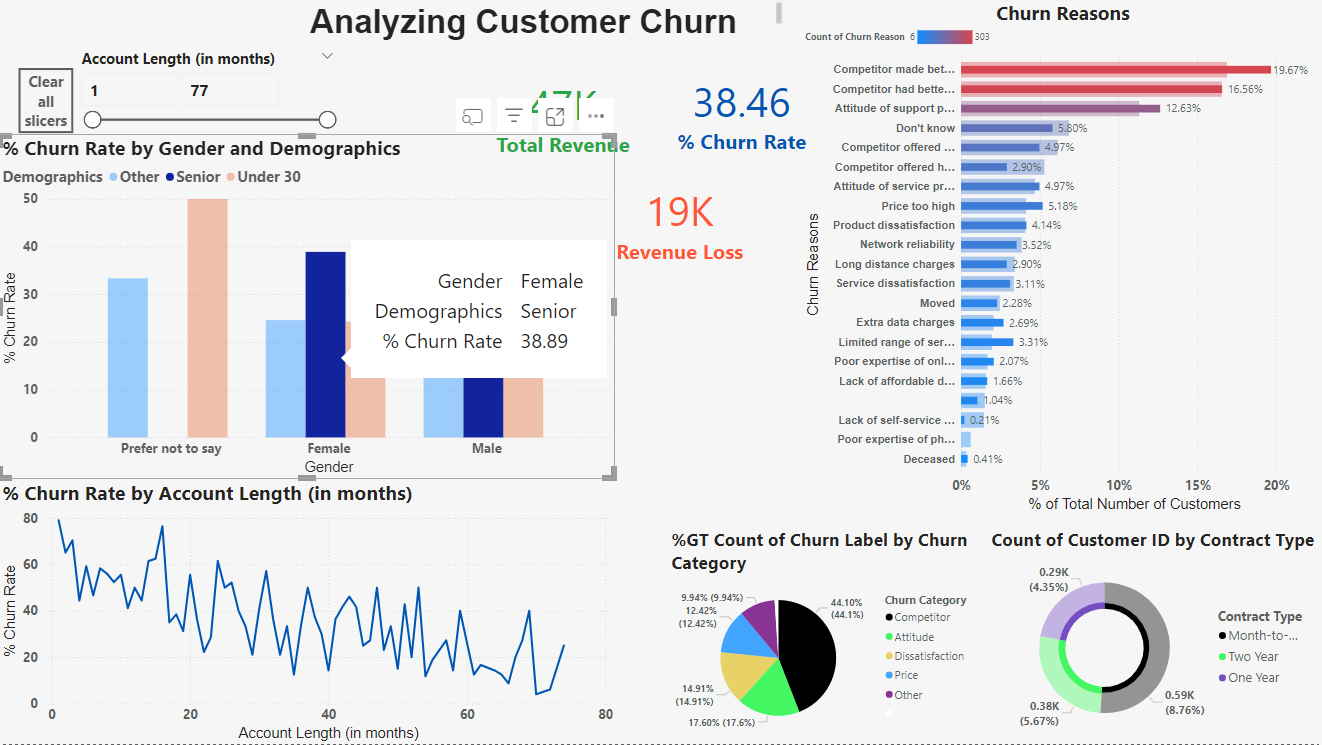

Layout of this report page (visuals, bound fields, positions):
{"tool":"powerbi","page":{"name":"Churn Analysis","canvas":[1920,1080],"ordinal":0},"visuals":[{"type":"card","fields":{"Values":["#Measures.Total Revenue"]},"box":[698.2,104.4,238.5,126.7],"z":0},{"type":"card","fields":{"Values":["#Measures.% Churn Rate"]},"box":[954.1,99.4,243.5,126.7],"z":1000},{"type":"card","fields":{"Values":["#Measures.Revenue Loss"]},"box":[852.3,253.4,268.3,136.7],"z":2000},{"type":"lineChart","fields":{"Y":["#Measures.% Churn Rate"],"Category":["Databel - Data.Account Length (in months)"]},"box":[0,695.7,894.5,385.1],"z":3000},{"type":"clusteredColumnChart","fields":{"Category":["Databel - Data.Gender"],"Y":["#Measures.% Churn Rate"],"Series":["Databel - Data.Demographics"]},"box":[0,196.3,894.5,499.4],"z":4000},{"type":"clusteredBarChart","title":"Churn Reasons","fields":{"Category":["Databel - Data.Churn Reason"],"Y":["CountNonNull(Databel - Data.Number of Customers in Group)"]},"box":[1162.8,0,757.8,747.9],"z":5000},{"type":"donutChart","fields":{"Y":["Count(Databel - Data.Customer ID)"],"Category":["Databel - Data.Contract Type"]},"box":[1433.7,765.3,479.6,315.6],"z":6000},{"type":"slicer","fields":{"Values":["Databel - Data.Account Length (in months)"]},"box":[106.8,64.6,390.1,196.3],"z":7000},{"type":"textbox","box":[390.1,0,750.4,67.1],"z":8000},{"type":"pieChart","fields":{"Category":["Databel - Data.Churn Category"],"Y":["CountNonNull(Databel - Data.Churn Label)"]},"box":[969.1,765,454.1,310.9],"z":9000},{"type":"actionButton","box":[27.3,99.4,79.5,94.4],"z":11000}]}

Visuals, with their boxes on the page's 1920x1080 design canvas (x1, y1, x2, y2). These are canvas units, not pixel positions in the 1322x745 screenshot, which may show the page scaled, cropped or inside an application window:
card - #Measures.Total Revenue: BBox(698, 104, 937, 231)
card - #Measures.% Churn Rate: BBox(954, 99, 1198, 226)
card - #Measures.Revenue Loss: BBox(852, 253, 1121, 390)
lineChart - #Measures.% Churn Rate x Databel - Data.Account Length (in months): BBox(0, 696, 894, 1081)
clusteredColumnChart - Databel - Data.Gender x #Measures.% Churn Rate: BBox(0, 196, 894, 696)
"Churn Reasons" clusteredBarChart: BBox(1163, 0, 1921, 748)
donutChart - Count(Databel - Data.Customer ID) x Databel - Data.Contract Type: BBox(1434, 765, 1913, 1081)
slicer - Databel - Data.Account Length (in months): BBox(107, 65, 497, 261)
textbox: BBox(390, 0, 1140, 67)
pieChart - Databel - Data.Churn Category x CountNonNull(Databel - Data.Churn Label): BBox(969, 765, 1423, 1076)
actionButton: BBox(27, 99, 107, 194)
